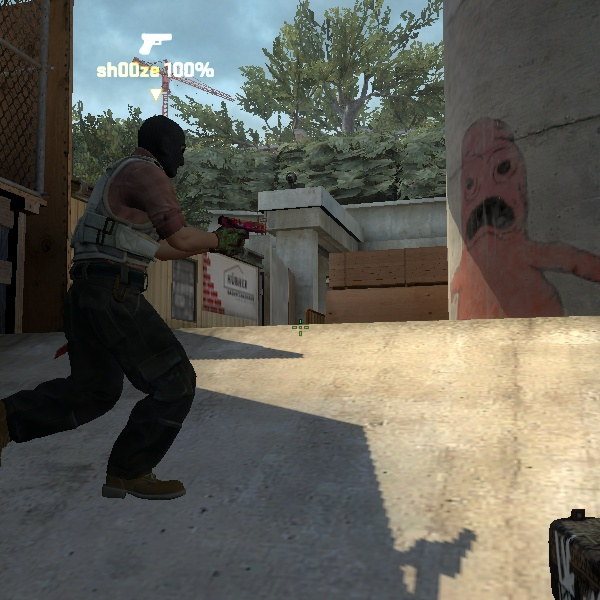t_body: (6, 90, 260, 524)
t_head: (121, 104, 213, 192)
